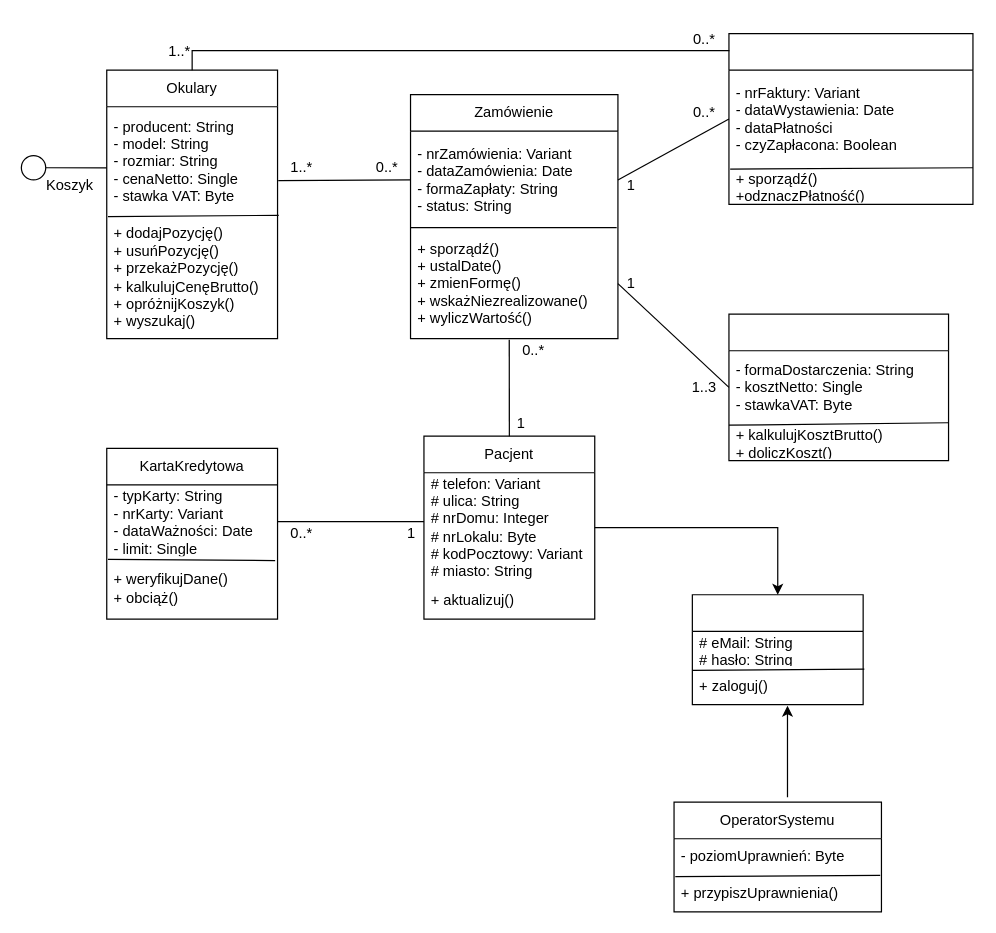
This 996x933 diagram has some shape labels left out. Each missing label, with the box of its shape:
Dostawa: (728, 313, 949, 461)
Faktura: (728, 32, 973, 204)
Użytkownik: (691, 594, 863, 705)
